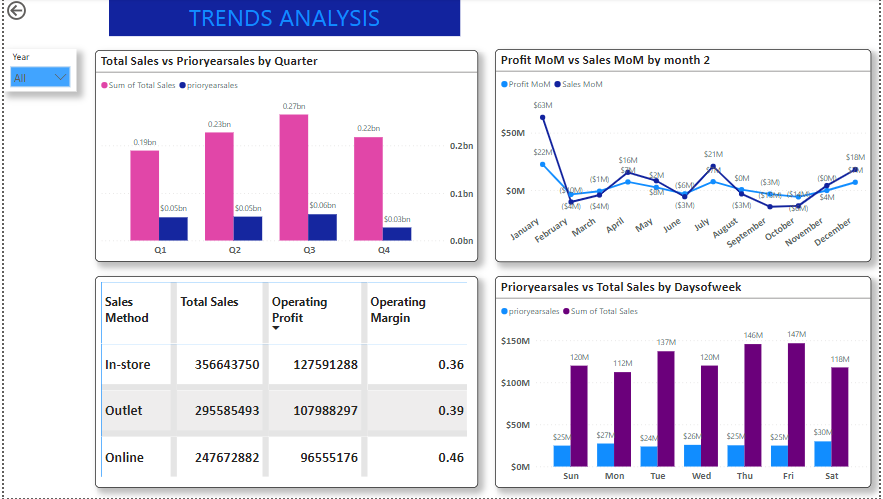

This screenshot's page, from the dashboard's own definition file:
{"tool":"powerbi","page":{"name":"Trends analysis","canvas":[1400,800],"ordinal":6},"visuals":[{"type":"lineChart","title":"Profit MoM vs Sales MoM by month 2","fields":{"Y":["Data Sales Adidas.Profit MoM","Data Sales Adidas.Sales MoM"],"Category":["calendertable.month 2"]},"box":[785.6,81.6,601.6,340.8],"z":0},{"type":"clusteredColumnChart","title":"Total Sales vs Prioryearsales by Quarter","fields":{"Y":["Sum(Data Sales Adidas.Total Sales)","Data Sales Adidas.prioryearsales"],"Category":["calendertable.Quarter"]},"box":[145.6,83.2,612.8,339.2],"z":1000},{"type":"clusteredColumnChart","title":"Prioryearsales vs Total Sales by Daysofweek","fields":{"Category":["calendertable.Daysofweek"],"Y":["Data Sales Adidas.prioryearsales","Sum(Data Sales Adidas.Total Sales)"]},"box":[785.6,444.8,601.6,339.2],"z":2000},{"type":"tableEx","fields":{"Values":["Data Sales Adidas.Sales Method","Sum(Data Sales Adidas.Total Sales)","Sum(Data Sales Adidas.Operating Profit)","Avg(Data Sales Adidas.Operating Margin)"]},"box":[145.6,444.8,612.8,339.2],"z":3000},{"type":"slicer","fields":{"Values":["calendertable.Year"]},"box":[0,80.8,115.7,68],"z":4000},{"type":"shape","box":[168,0,548.8,60.8],"z":5000},{"type":"textbox","box":[168,0,561.6,60.8],"z":6000},{"type":"actionButton","box":[0,0,54.4,40],"z":7000}]}

Visuals, with their boxes in screenshot pixels (x1, y1, x2, y2), scaled from the page's 1400x800 canvas onto the 883x499 screenshot:
"Profit MoM vs Sales MoM by month 2" lineChart: box(495, 51, 875, 263)
"Total Sales vs Prioryearsales by Quarter" clusteredColumnChart: box(92, 52, 478, 263)
"Prioryearsales vs Total Sales by Daysofweek" clusteredColumnChart: box(495, 277, 875, 489)
tableEx - Data Sales Adidas.Sales Method x Sum(Data Sales Adidas.Total Sales): box(92, 277, 478, 489)
slicer - calendertable.Year: box(0, 50, 73, 93)
shape: box(106, 0, 452, 38)
textbox: box(106, 0, 460, 38)
actionButton: box(0, 0, 34, 25)
